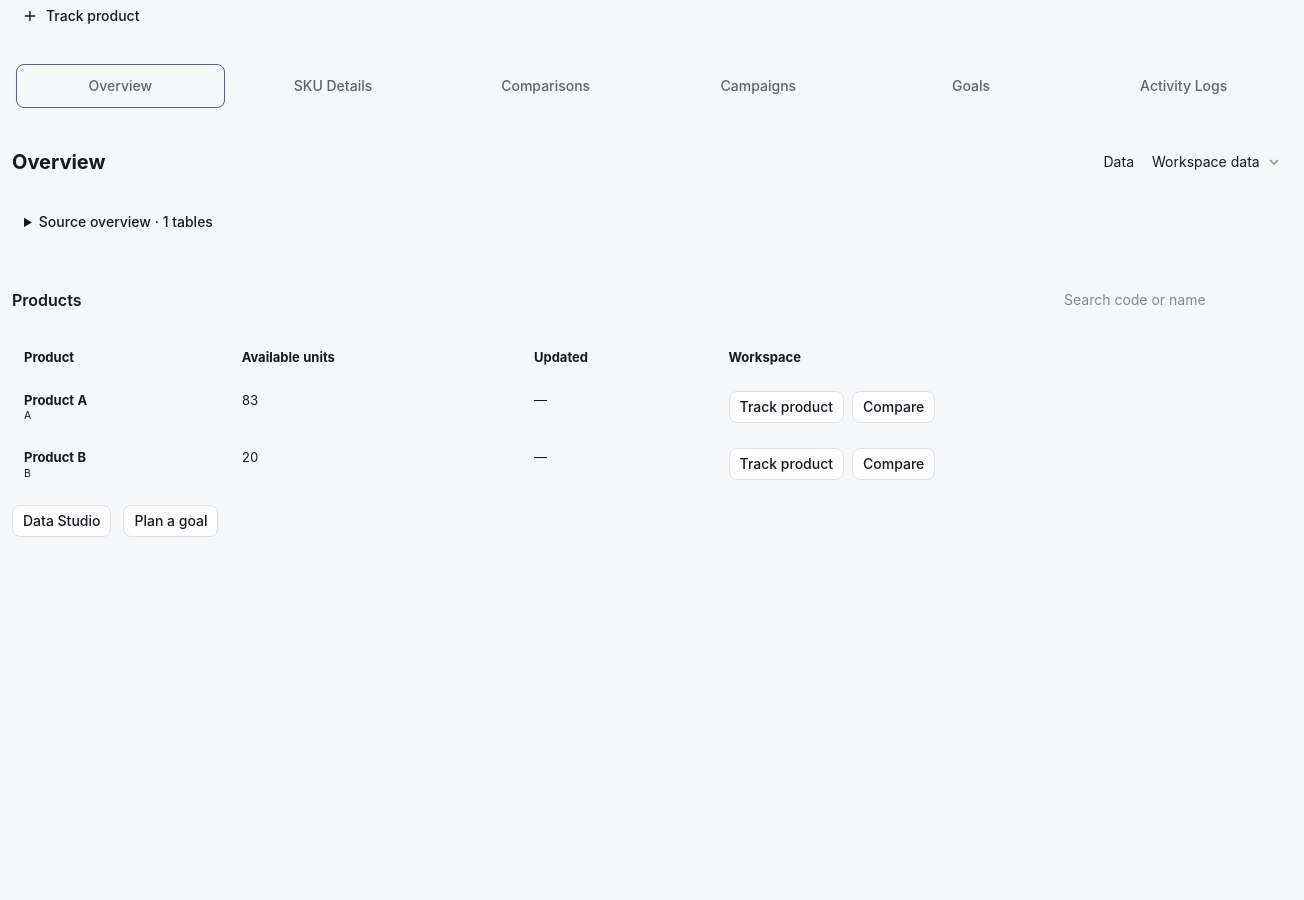
Scenario: retains a note on save failure and stores activity only after success
Click the button "Track product" in the row of "83": (786, 407) [728,391,844,423]
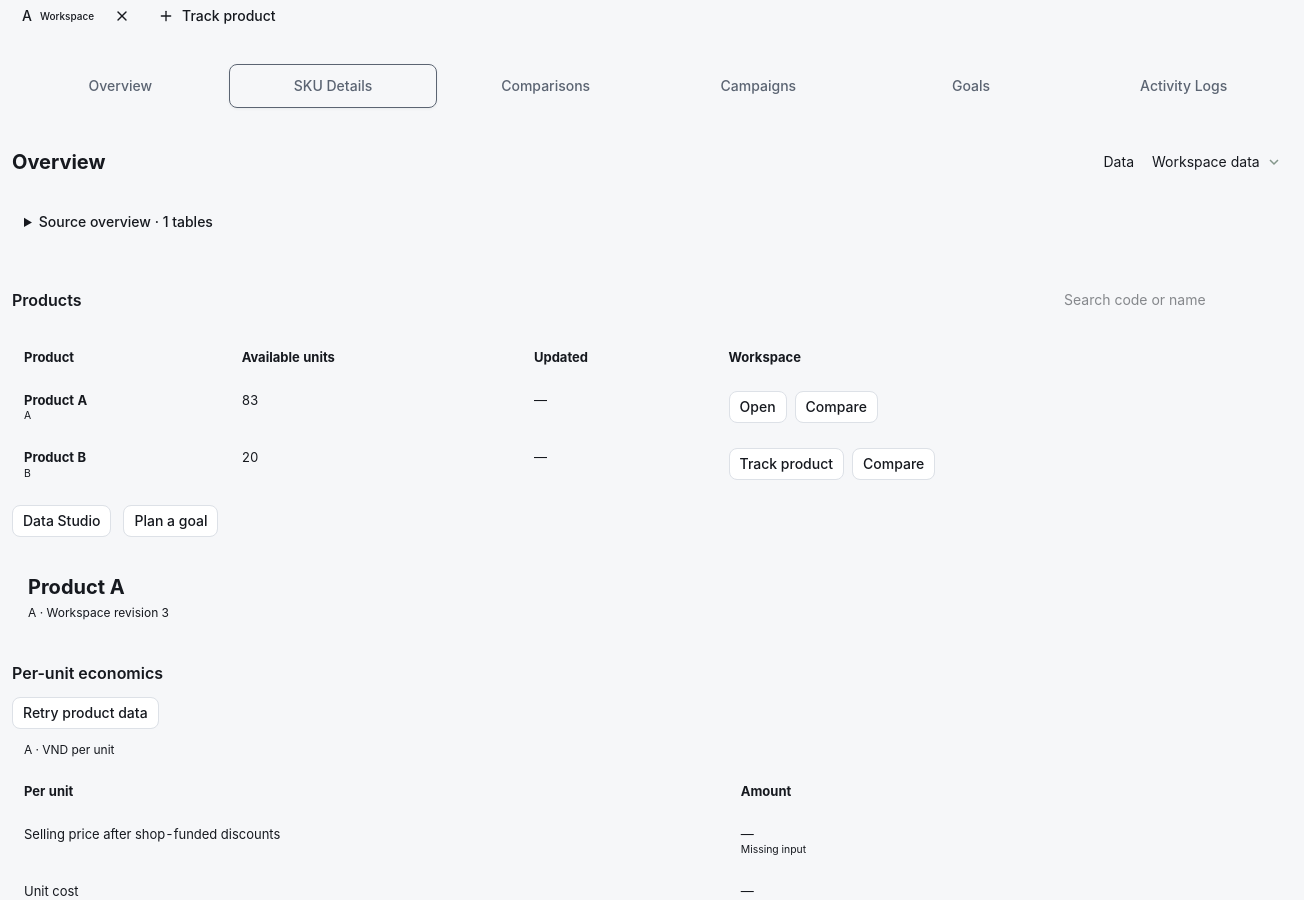
expect the heading "Product A" is shown: met, box [28,575,125,599]
Click the tab "Activity Logs": (1184, 86) [1079,64,1288,108]
(page scrolled)
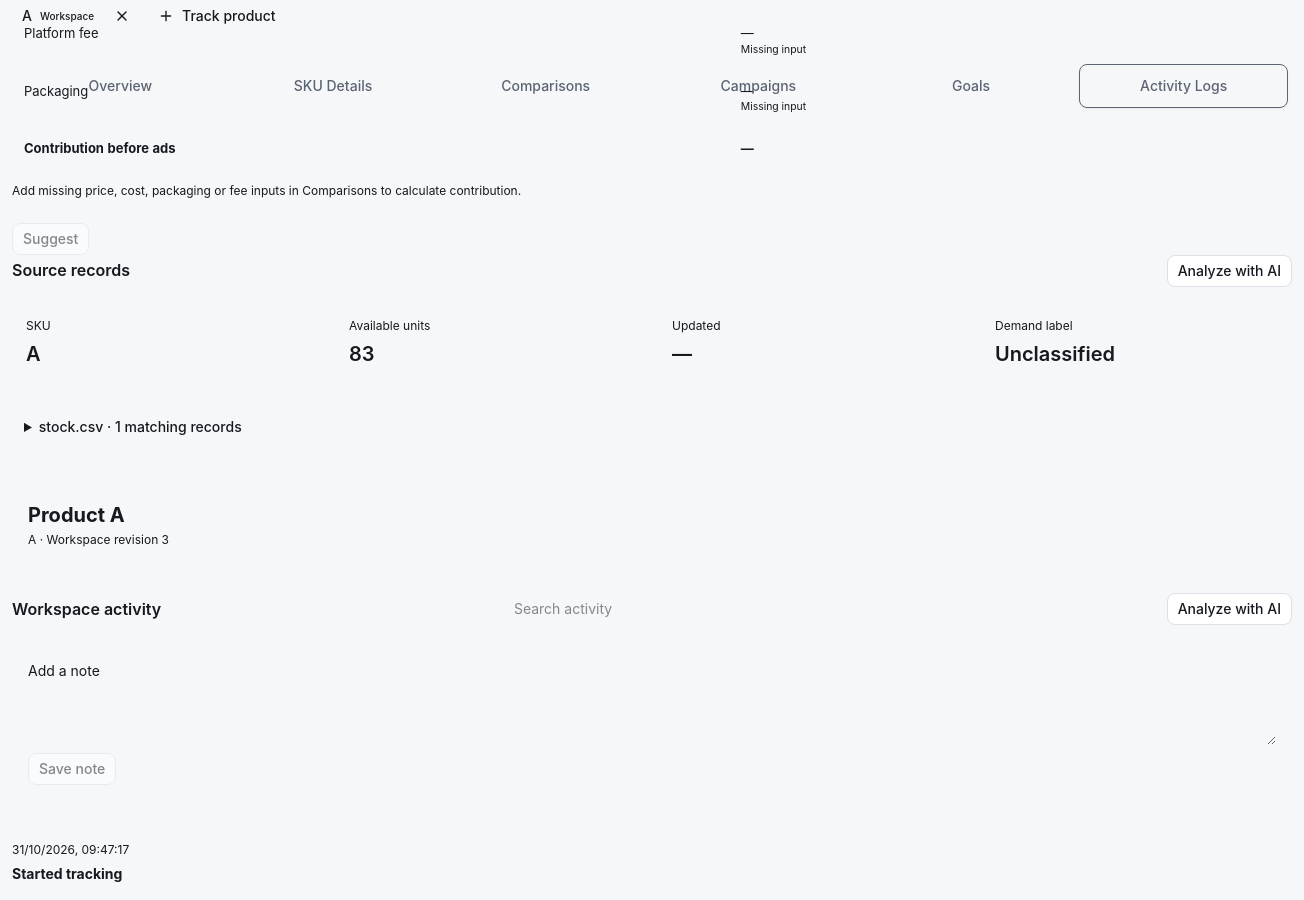
In the text box labelled "Add a note": (652, 717) [28,689,1276,745], type "Review campaign costs"
Click the button "Save note": (72, 769) [28,753,116,785]
(page scrolled)
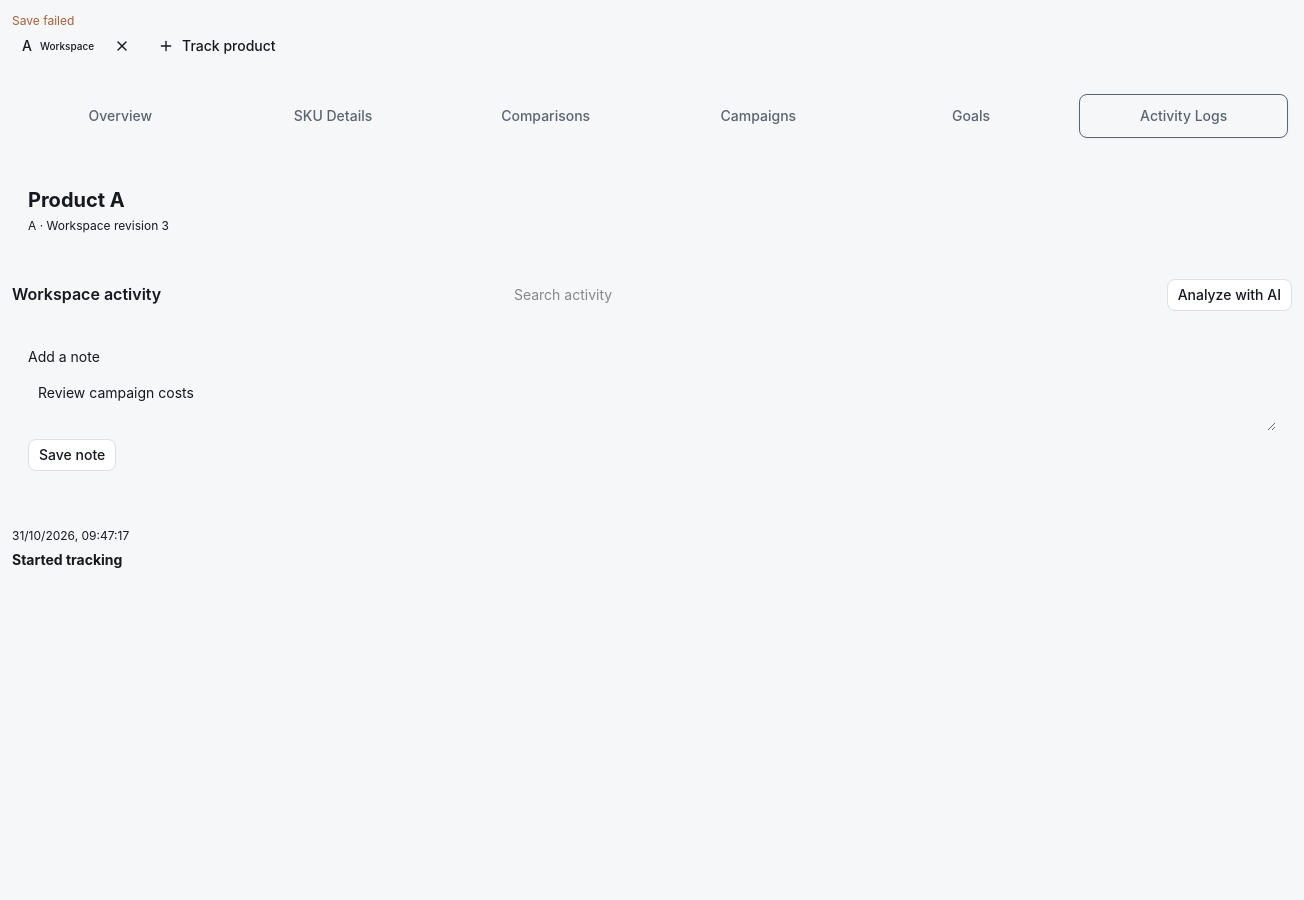
expect the message "Save failed" is shown: met, box [12,13,74,28]
Click the button "Save note": (72, 455) [28,439,116,471]
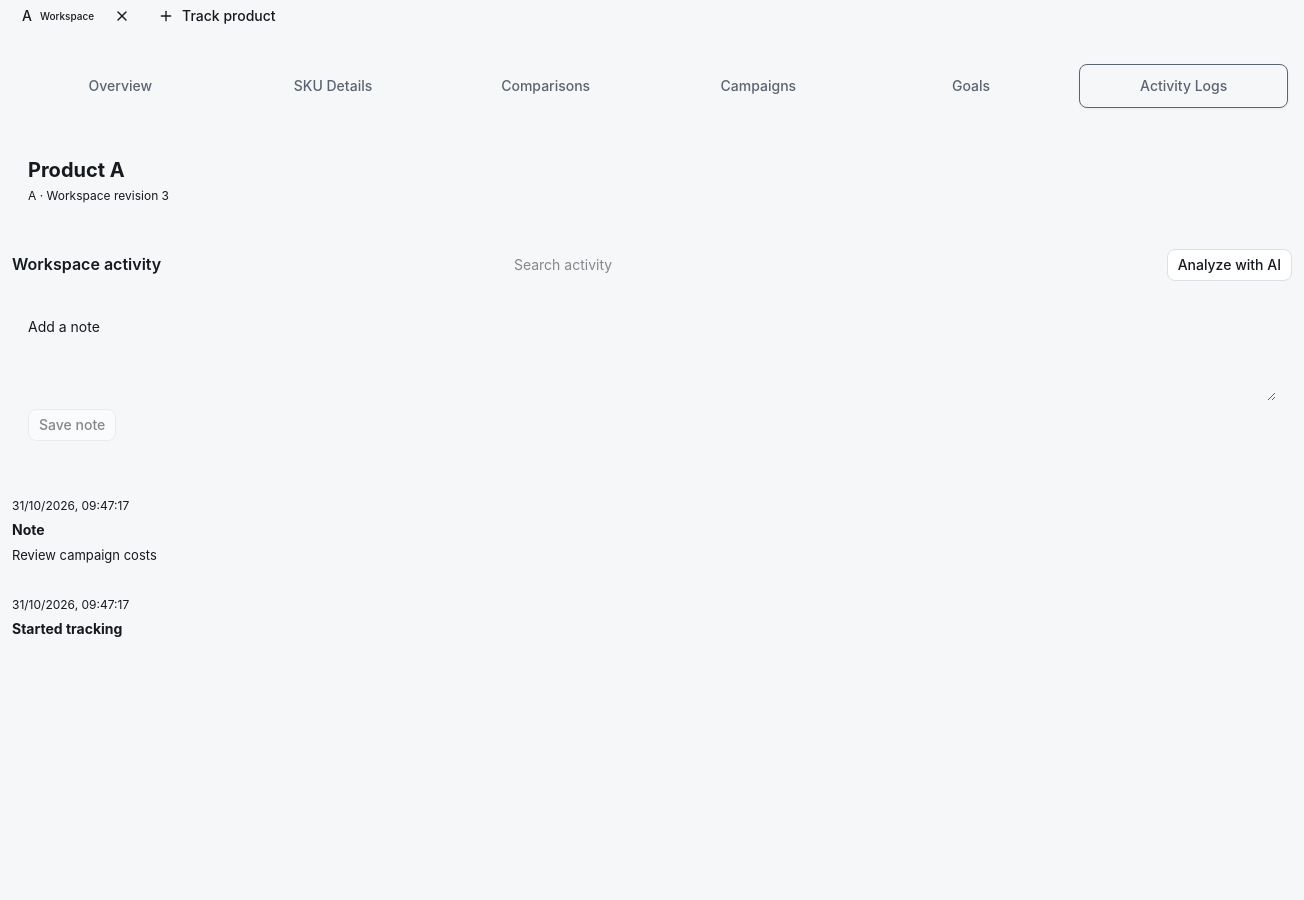
expect the text box labelled "Add a note" is empty: met, box [28,345,1276,401]
In the field labelled "Search activity": (664, 265) [504,245,824,285], type "no such entry"
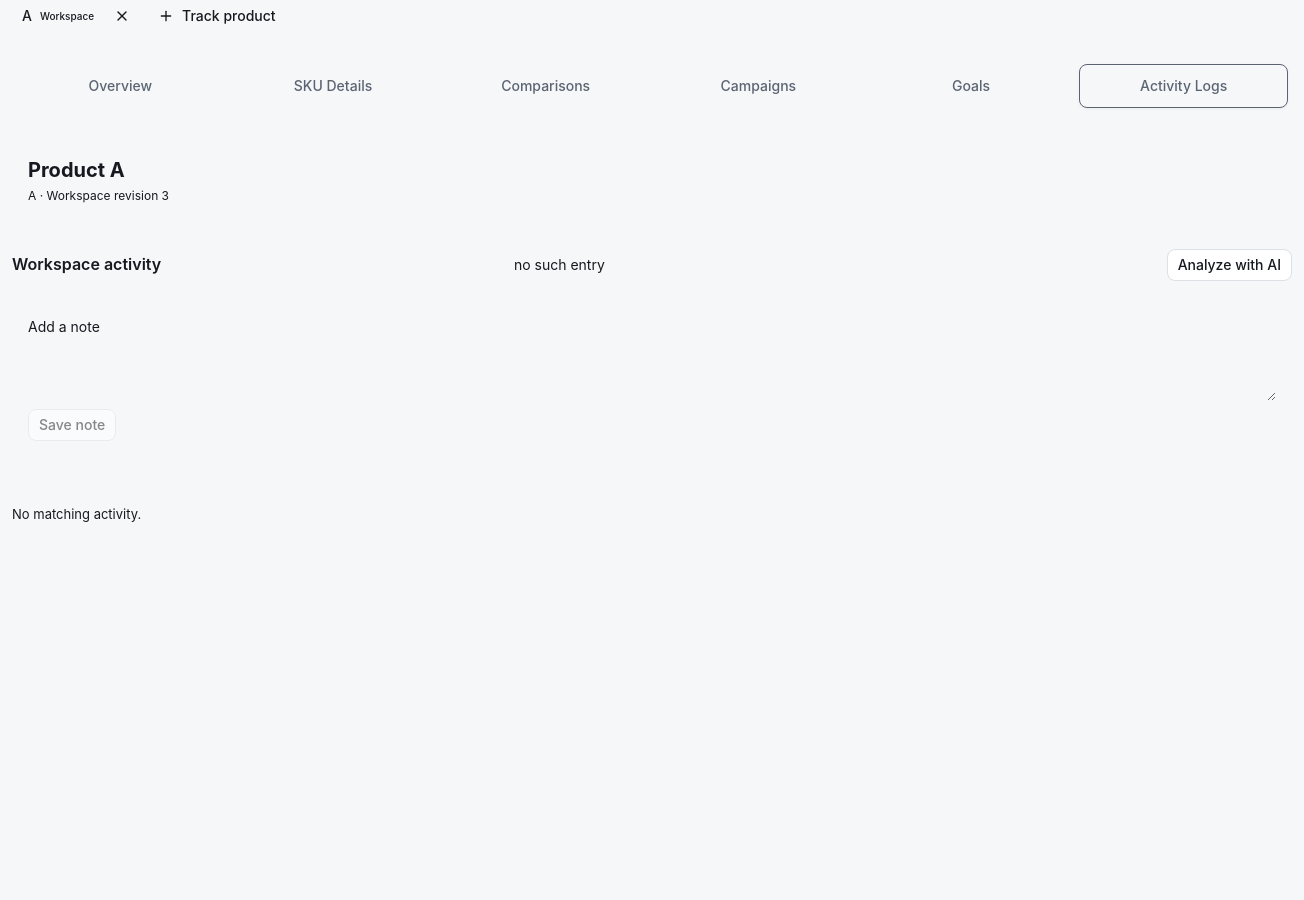
expect the text "No matching activity." is shown: met, box [12,506,141,522]
Replace the text in the field named "Search activity" with "campaign costs": (664, 265) [504,245,824,285]
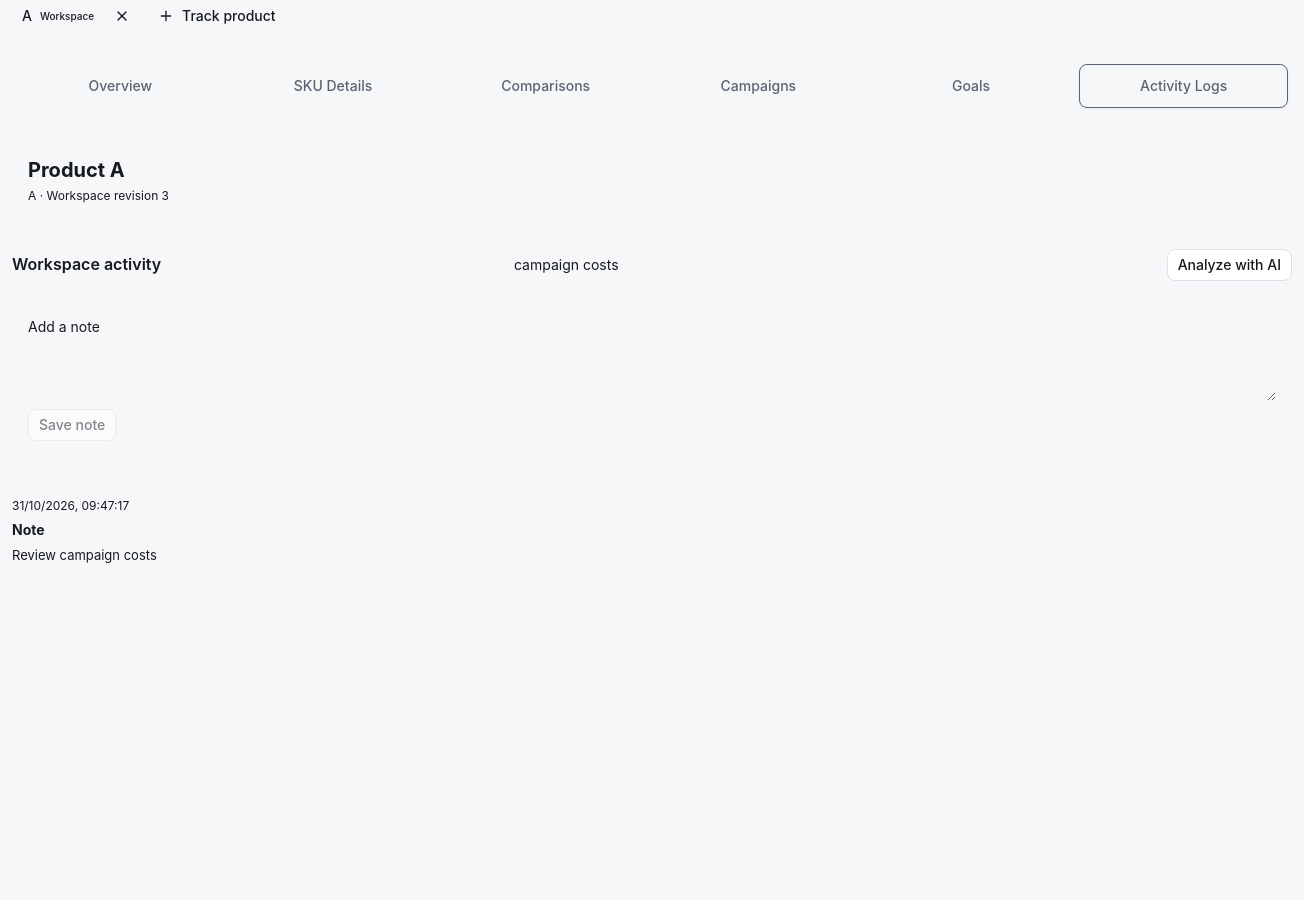
expect the text "Review campaign costs" is shown: met, box [12,547,157,563]
